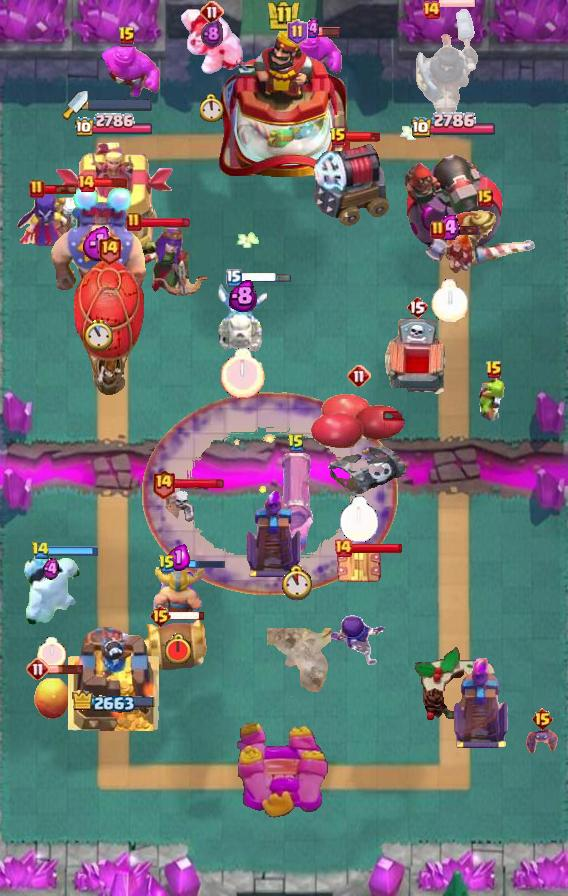axe: (15, 192, 85, 252)
bar: (54, 142, 173, 256)
barbarian-barrel: (524, 727, 560, 755)
barbarian-hut: (85, 226, 207, 296)
battle-healer: (273, 453, 319, 557)
cannon-cart: (73, 259, 145, 399)
electro-spirit: (81, 226, 114, 262), (229, 280, 257, 312), (436, 215, 463, 240), (166, 545, 189, 572), (201, 20, 223, 48), (303, 17, 322, 39), (43, 558, 59, 580)
elixir: (221, 349, 265, 400), (339, 497, 379, 543), (431, 278, 468, 321), (279, 565, 314, 601), (163, 633, 193, 666), (37, 638, 66, 671), (83, 319, 112, 351), (199, 94, 224, 123)
elixir-golem-mid: (382, 317, 452, 403)
emote: (239, 272, 293, 285), (141, 216, 192, 229), (175, 478, 226, 491), (351, 542, 403, 554), (47, 545, 99, 557), (174, 558, 226, 570), (443, 224, 480, 236), (170, 610, 207, 622), (47, 663, 84, 675), (305, 26, 341, 38), (345, 131, 381, 143), (42, 183, 78, 195), (94, 176, 128, 188), (439, 0, 477, 8)
fisherman: (267, 627, 331, 696)
goblin-ball: (326, 612, 386, 668)
goblin-brawler: (335, 544, 383, 588)
goblin-giant: (150, 567, 206, 621)
golem: (312, 142, 392, 226)
heal-spirit: (164, 489, 194, 523)
hog: (34, 673, 72, 721)
hog-rider: (422, 228, 476, 278)
ice-spirit-evolution-symbol: (244, 487, 304, 579), (451, 658, 511, 750)
inferno-dragon: (414, 4, 480, 124)
king-tower: (218, 27, 350, 181)
king-tower-bar: (88, 99, 152, 111)
little-prince: (45, 185, 151, 307)
mini-pekka: (216, 282, 270, 354)
queen-tower: (68, 627, 160, 731)
rage: (19, 556, 83, 628), (179, 8, 245, 76)
ram-rider: (432, 207, 538, 273)
rocket: (142, 392, 398, 596)
royal-recruit-evolution: (308, 392, 410, 500)
selected: (411, 112, 498, 140), (71, 689, 156, 714), (74, 113, 154, 139)
text: (151, 469, 176, 500), (98, 235, 122, 266), (200, 0, 224, 24), (347, 364, 371, 388), (26, 657, 50, 681), (148, 604, 171, 628), (530, 707, 553, 731), (288, 19, 309, 45), (406, 295, 428, 319), (421, 0, 441, 20), (76, 173, 96, 193), (333, 538, 353, 558), (31, 540, 50, 559), (118, 26, 136, 46), (329, 127, 347, 147), (485, 360, 503, 380), (287, 433, 305, 453), (158, 554, 176, 574), (29, 179, 45, 199), (126, 212, 142, 232), (430, 220, 446, 240), (477, 189, 493, 207), (226, 269, 242, 287)
the-log: (140, 619, 214, 671)
tornado: (93, 43, 161, 99), (281, 30, 343, 76)
tower-bar: (403, 138, 503, 256)
zap: (476, 374, 512, 424)
